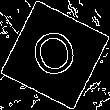O_S: (27, 24, 83, 86)
